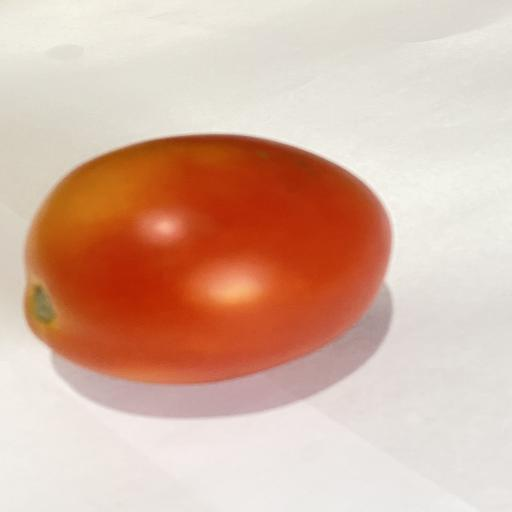ripe: (24, 134, 391, 383)
